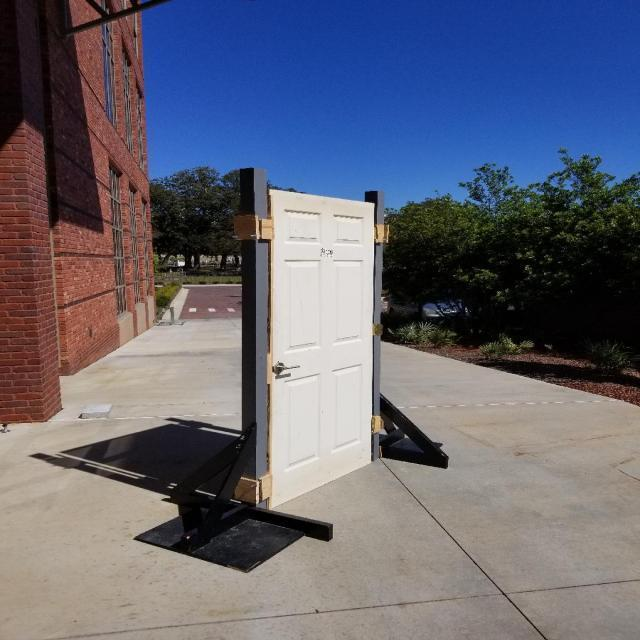door: (264, 186, 378, 513), (272, 356, 304, 376)
